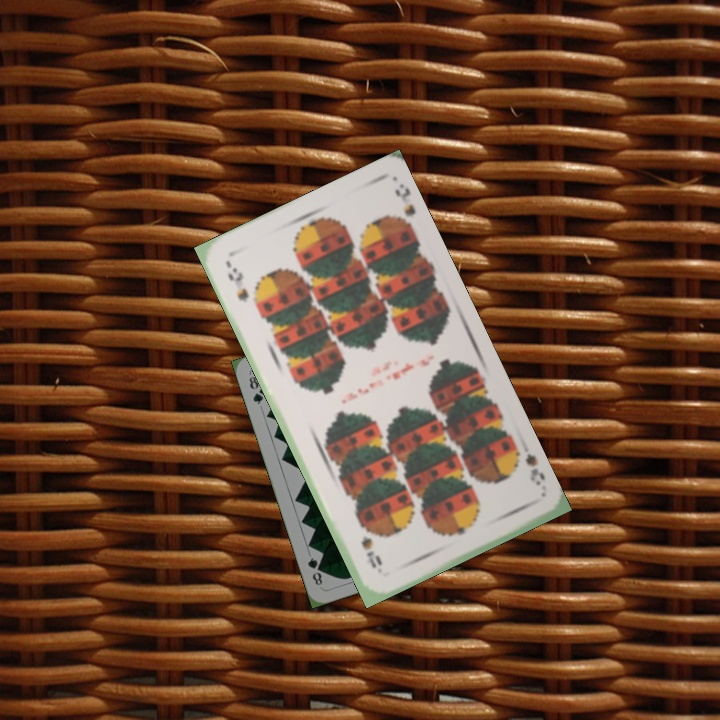G8: (245, 372, 266, 407)
S9: (506, 442, 548, 489), (222, 258, 252, 306)
